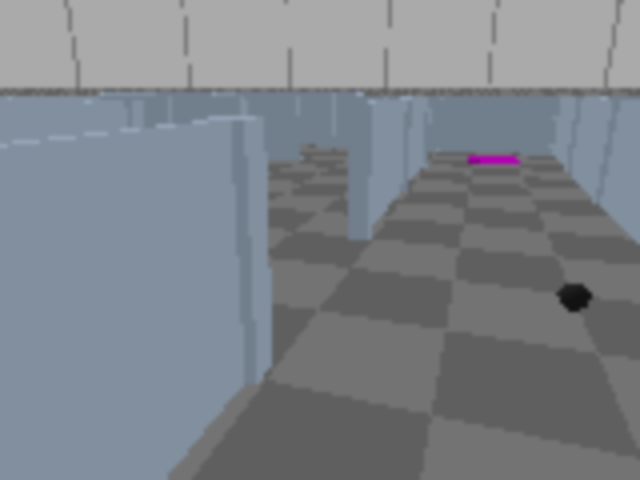goal_zone: (466, 155, 519, 165)
puck: (551, 275, 597, 319)
